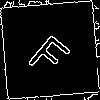F: (25, 25, 78, 80)
